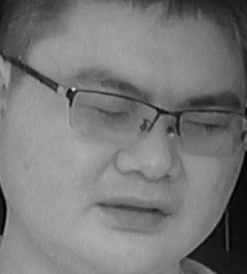blink: (94, 103, 124, 123), (188, 116, 220, 132)
glass: (65, 87, 157, 144), (176, 106, 247, 158)
mouth: (95, 191, 170, 232)
